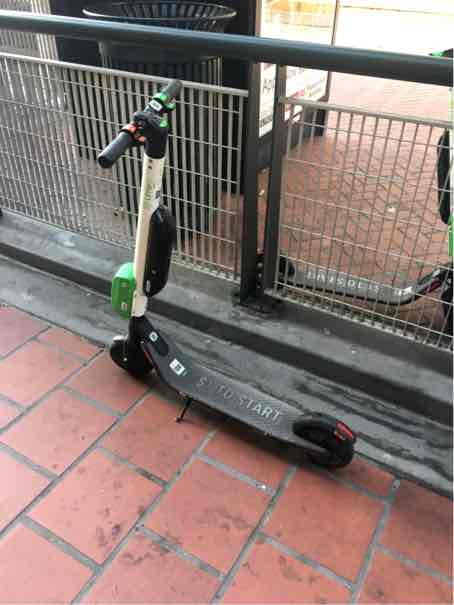scooter: (81, 79, 357, 472)
